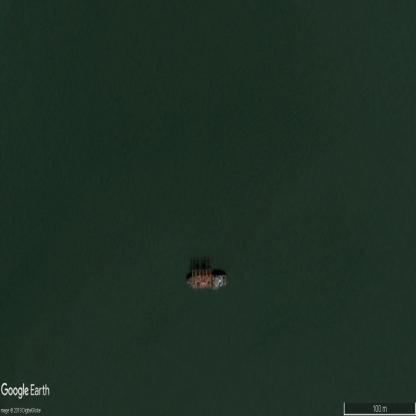ship: (186, 265, 228, 292)
